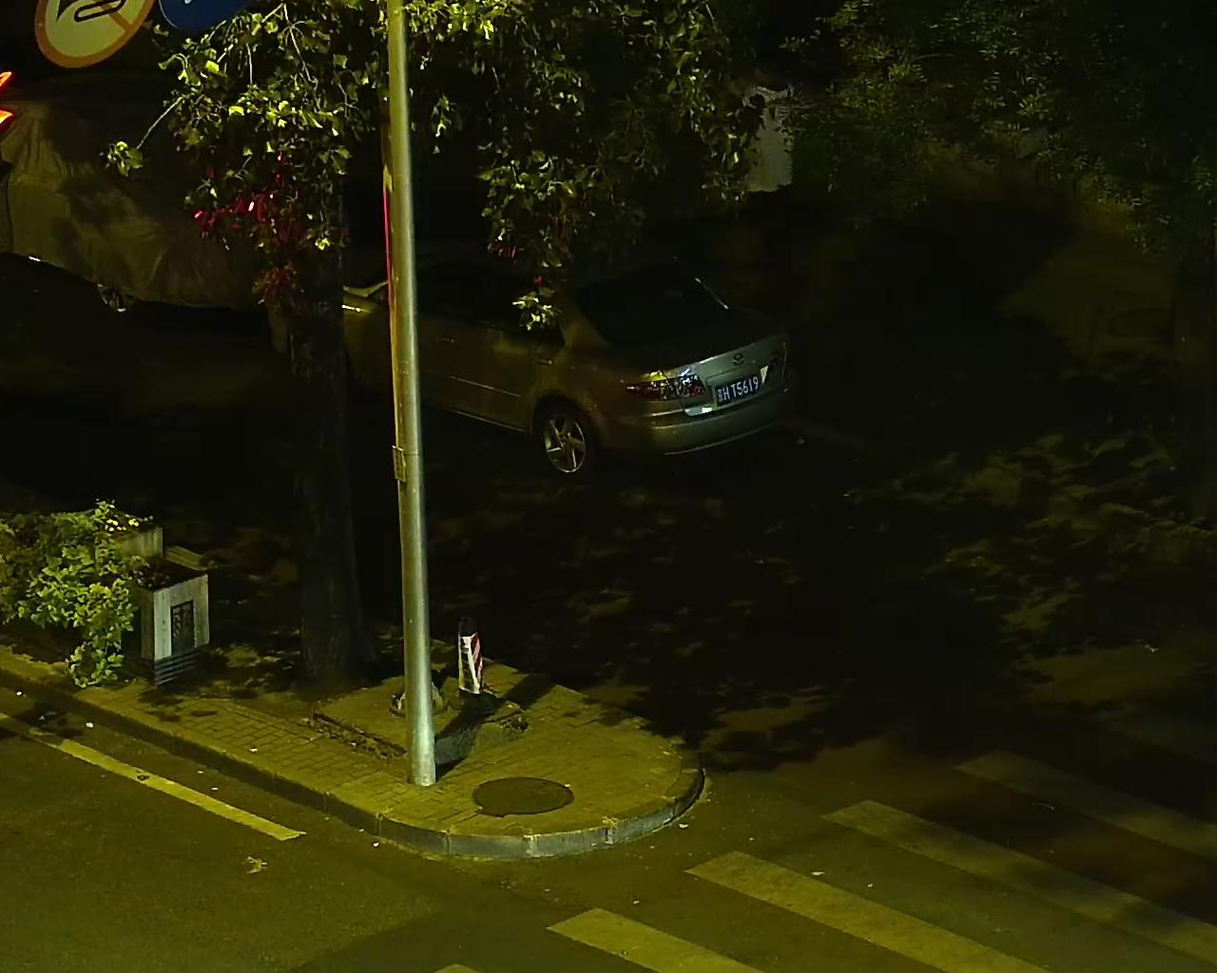person: (718, 59, 798, 277)
